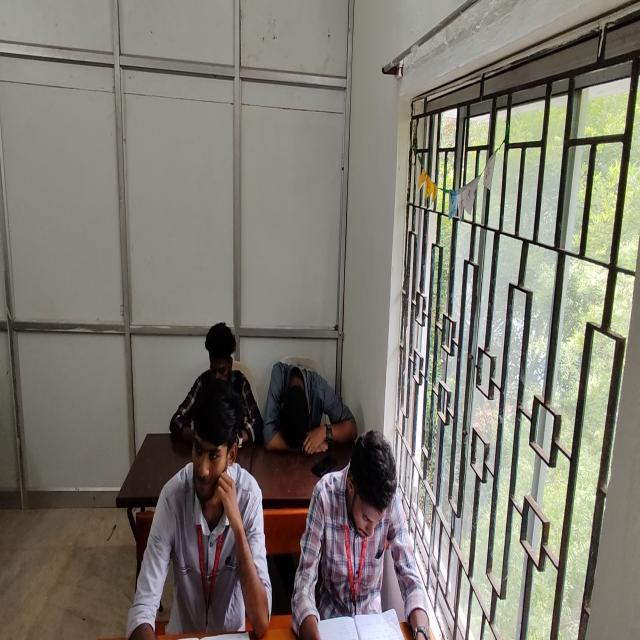reading: (288, 430, 412, 640)
sleeping: (264, 360, 354, 454)
turning: (126, 384, 271, 640)
using_mobile: (170, 320, 263, 446)
